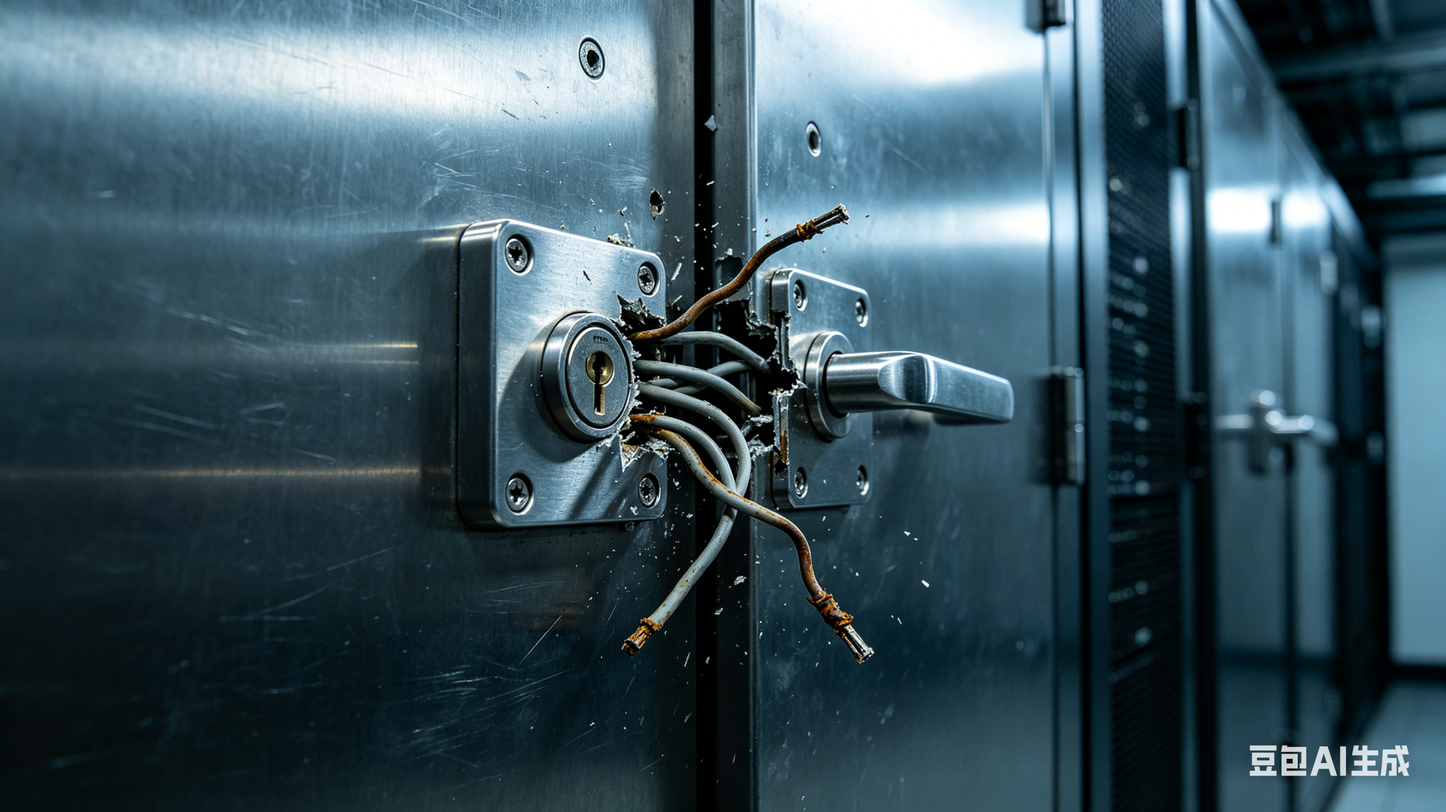BadLock: (598, 239, 791, 490)
